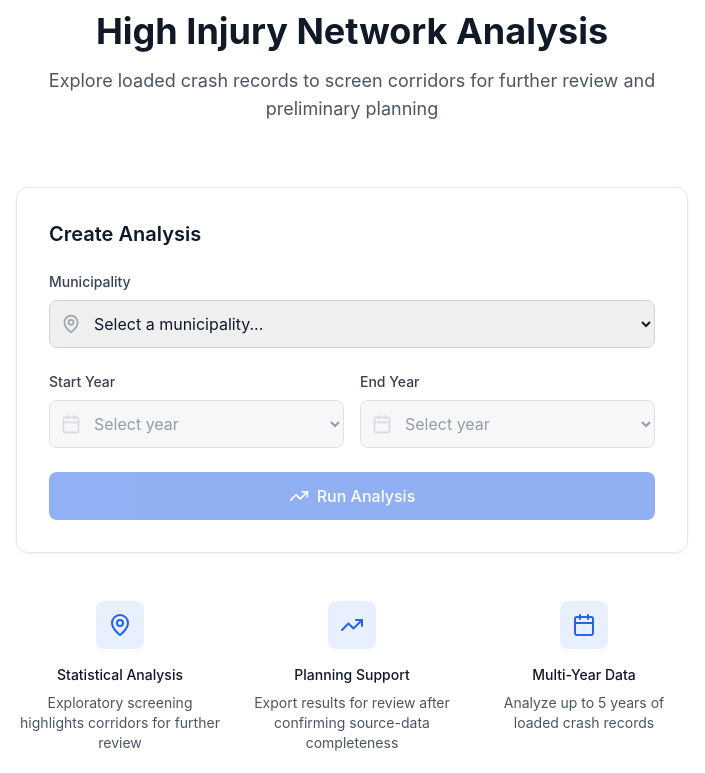
shows the FastAPI detail message when analysis creation is rejected
Select "Alpha Township — Mercer County" in the dropdown labelled "Municipality" at (352, 324), box 49,300 -> 655,348
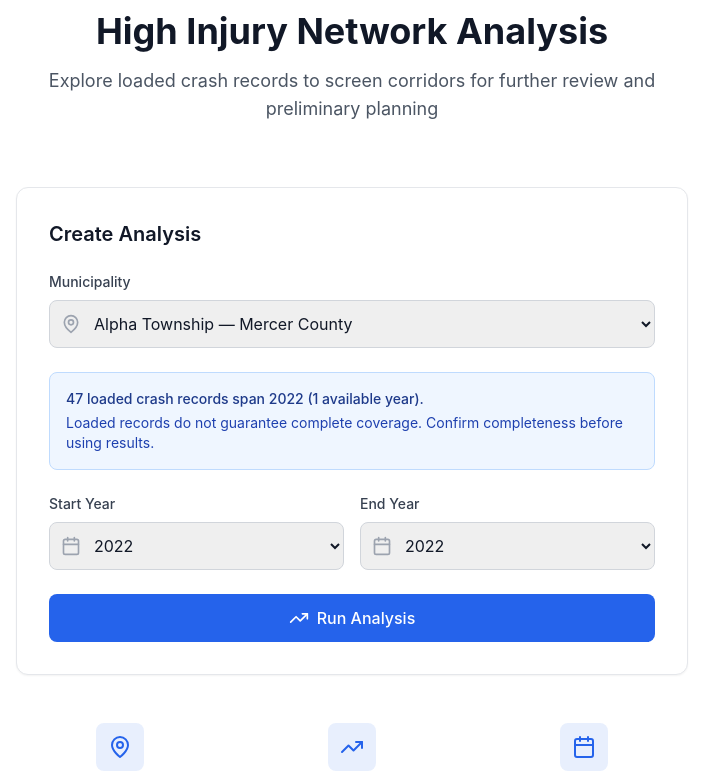
Now the button "Run Analysis" is enabled
Click the button "Run Analysis".
click(352, 618)  # box 49,594 -> 655,642
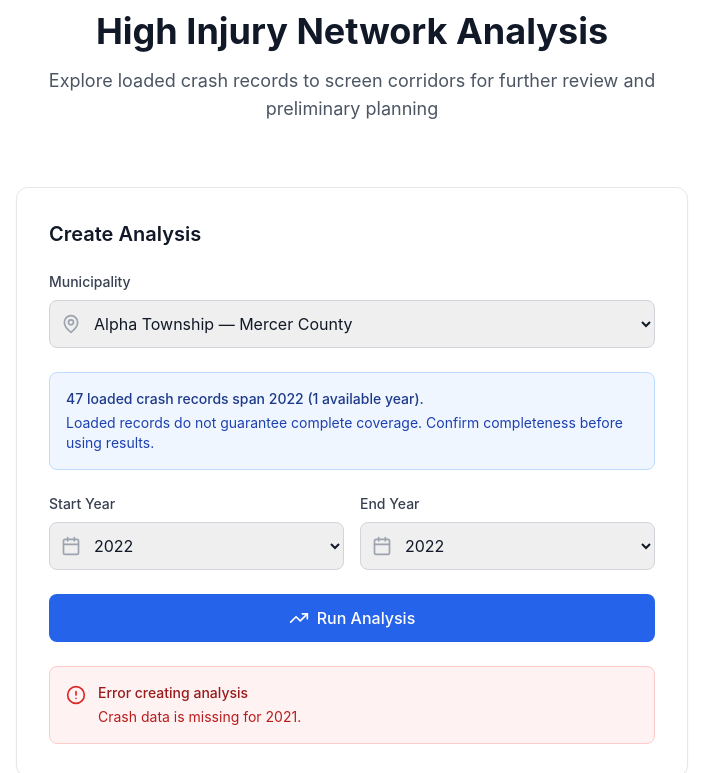
Now the text "Crash data is missing for 2021." is shown, box 98,707 -> 301,727
